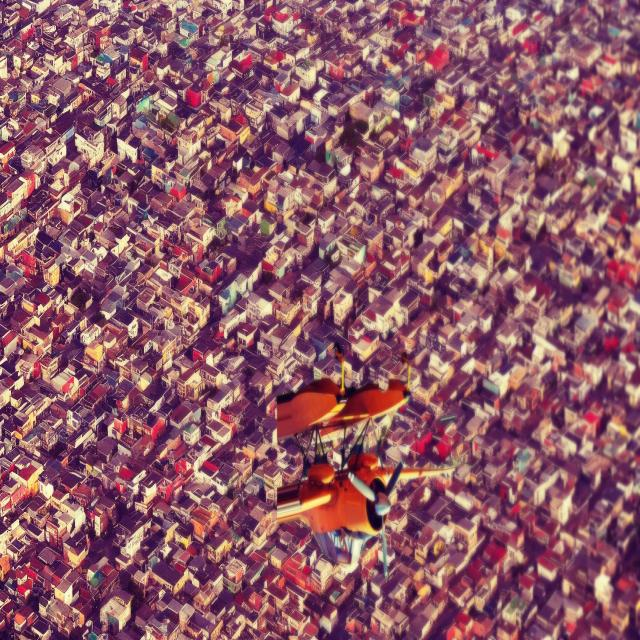airplane: (274, 349, 456, 580)
